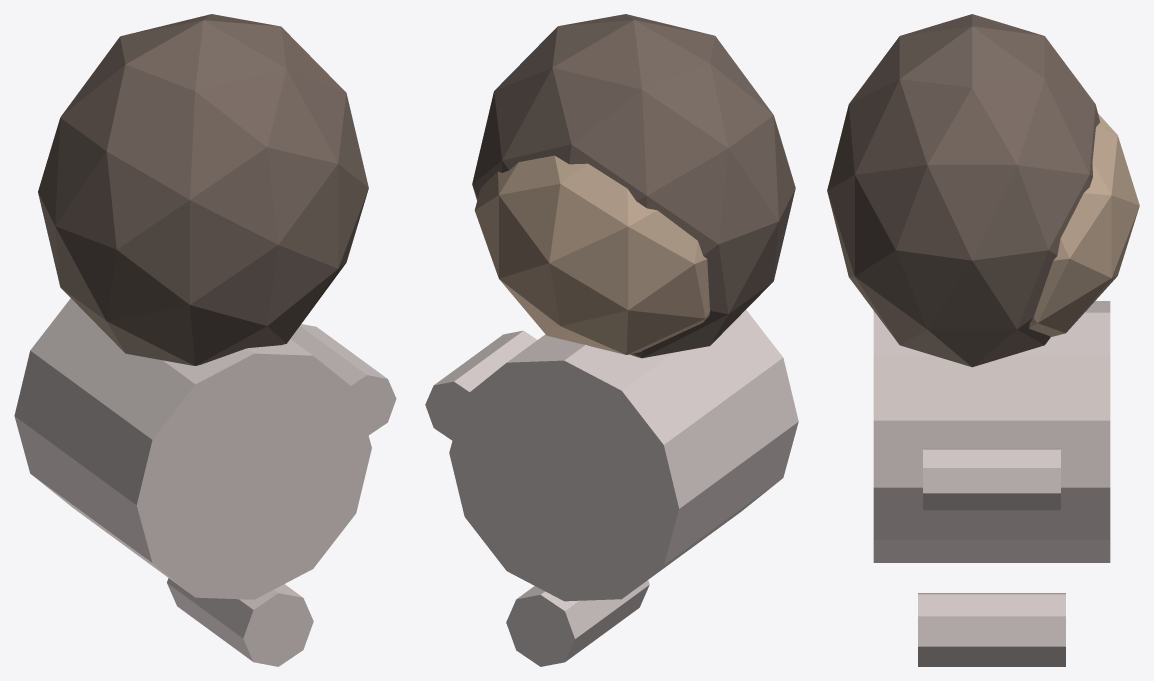
The model's file is avatar_female.glb.
3 views of the same model, side by side, from view 1: azimuth 30°, elevation 25°; view 2: azimuth 150°, elevation 25°; view 3: azimuth 270°, elevation 25° (orthographic). The views are drawn at different scales.
Visible parts, largest first — view 1: hair, body, leg, arm; view 2: body, hair, head, leg, arm; view 3: hair, body, leg, head, arm.
Part boxes in pixels (box(x1,y1,x2,y2)): hair: box(38, 14, 368, 365); body: box(14, 298, 371, 599); leg: box(167, 578, 313, 666); arm: box(290, 324, 396, 435); body: box(449, 310, 798, 601); hair: box(472, 14, 795, 358); head: box(474, 155, 709, 354); leg: box(506, 580, 649, 666); arm: box(425, 330, 536, 440); hair: box(827, 14, 1099, 367); body: box(873, 301, 1110, 562); leg: box(918, 593, 1065, 666); head: box(1029, 113, 1139, 337); arm: box(923, 448, 1060, 510).
Size of the model in its own units: 1.07 by 2.07 by 0.9516.
